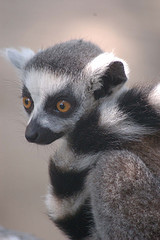cat: (2, 31, 158, 239)
